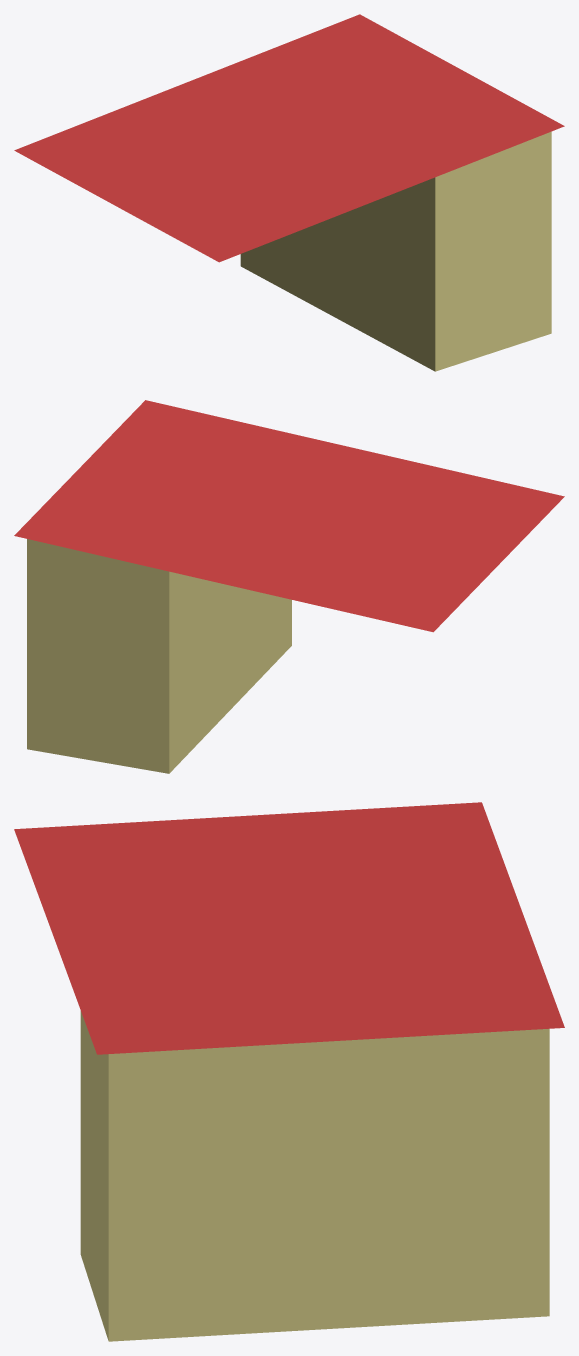
3 renders of one model, top to bottom at view 1: azimuth 30°, elevation 25°; view 2: azimuth 150°, elevation 25°; view 3: azimuth 270°, elevation 25°, orthographic. The views are drawn at different scales.
Size of the model in its own units: 12.49 by 10.2 by 5.99.
